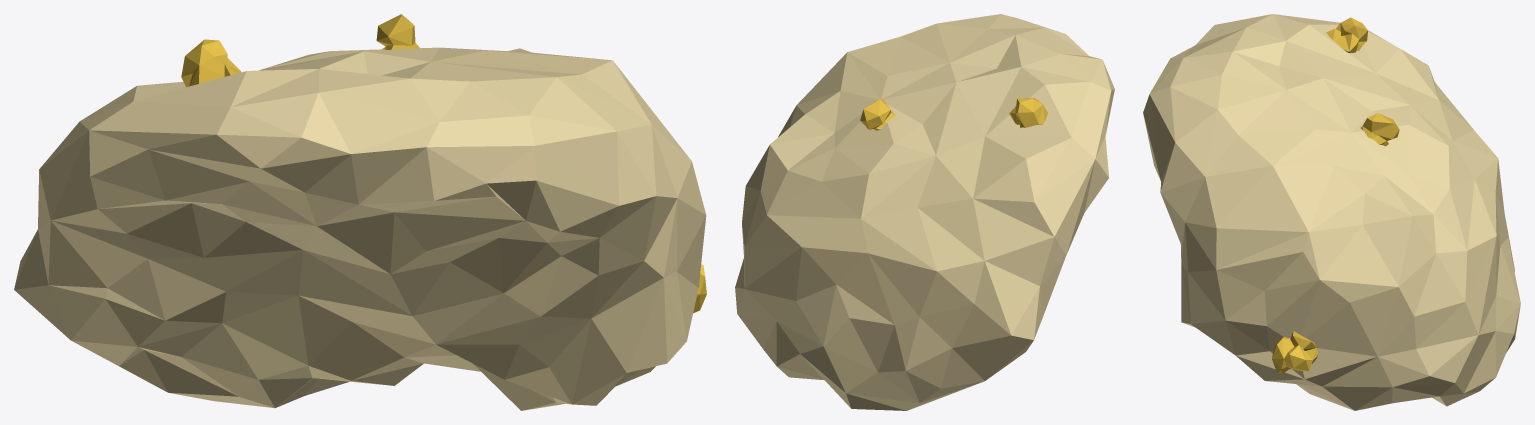
File: MetalOre (32).fbx
3 views of the same model, side by side, from view 1: azimuth 30°, elevation 25°; view 2: azimuth 150°, elevation 25°; view 3: azimuth 270°, elevation 25° (orthographic). The views are drawn at different scales.
Parts seen in each view (by area): view 1: Asteroid387; view 2: Asteroid387; view 3: Asteroid387.
Boxes of the visible parts, x1,y1,x2,y2 form: Asteroid387: (14, 14, 706, 410); Asteroid387: (735, 14, 1114, 410); Asteroid387: (1143, 14, 1520, 410).
Bounding box in the file's own units: 679 × 521 × 597.
